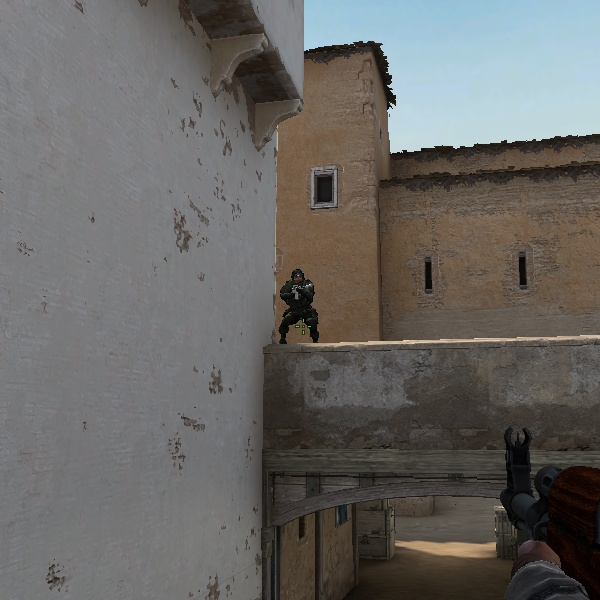ct_body: (274, 266, 322, 345)
ct_head: (287, 266, 309, 288)
